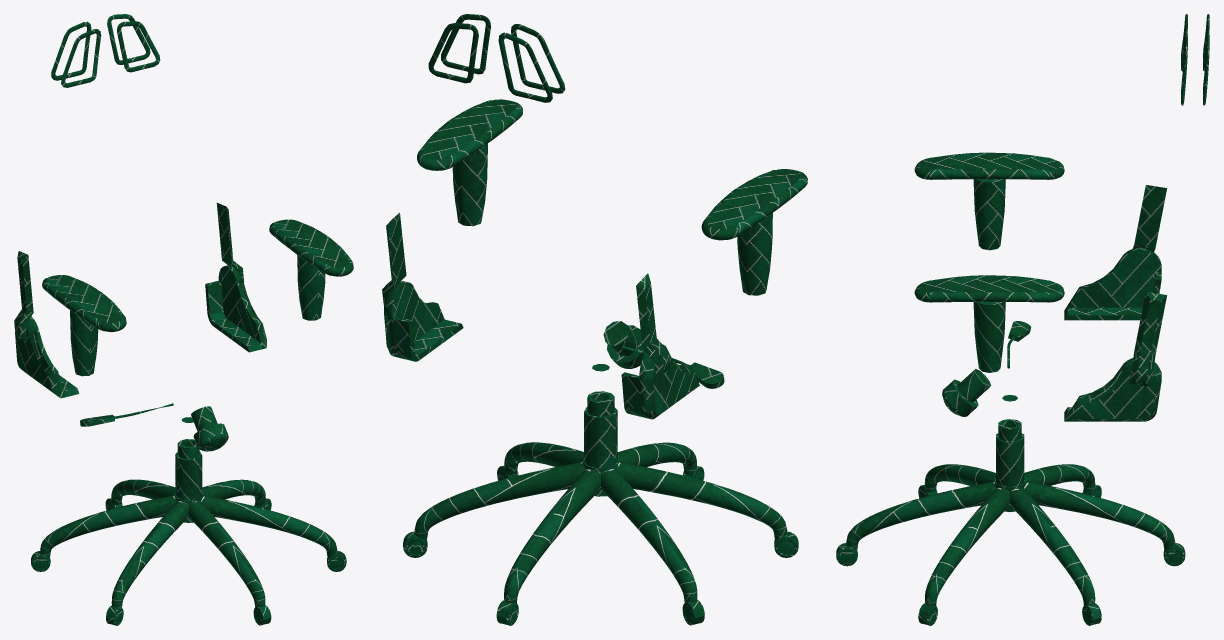
File: Blks_-_Plastic_-_Black.obj
3 views of the same model, side by side, from view 1: azimuth 30°, elevation 25°; view 2: azimuth 150°, elevation 25°; view 3: azimuth 270°, elevation 25° (orthographic). The views are drawn at different scales.
Size of the model in its own units: 0.625 by 1.09 by 0.6887.
Materials: 1 (1 with a texture image).
